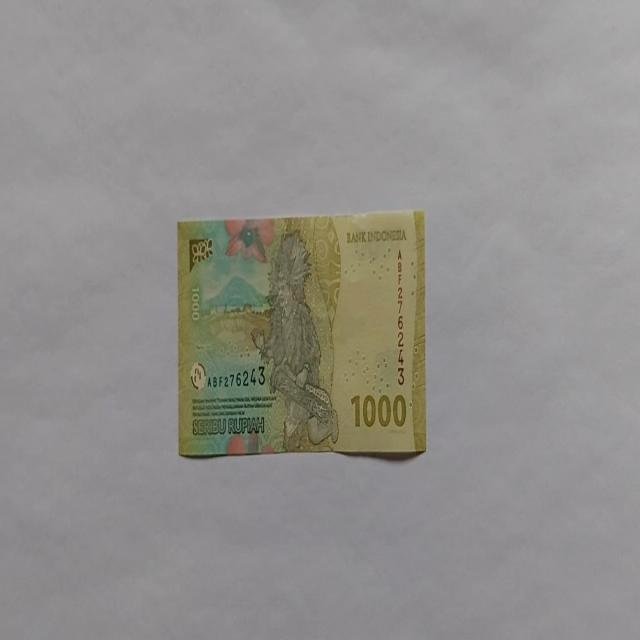seribu rupiah kertas: (176, 209, 426, 459)
